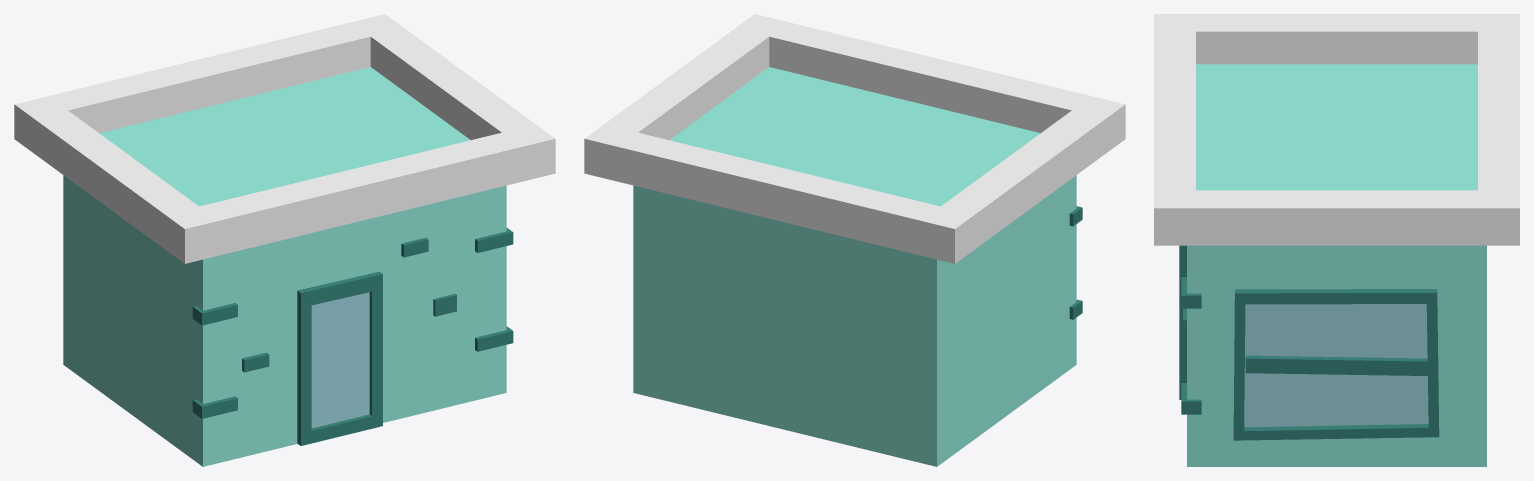
File: Cyan_kiosk.fbx
3 renders of one model, left to right at view 1: azimuth 30°, elevation 25°; view 2: azimuth 150°, elevation 25°; view 3: azimuth 270°, elevation 25°, orthographic. The views are drawn at different scales.
Parts seen in each view (by area): view 1: Cyan kiosk; view 2: Cyan kiosk; view 3: Cyan kiosk.
Boxes of the visible parts, x1,y1,x2,y2 form: Cyan kiosk: (14, 14, 555, 466); Cyan kiosk: (584, 14, 1125, 466); Cyan kiosk: (1154, 14, 1519, 466).
Bounding box in the file's own units: 1027 × 681 × 818.
